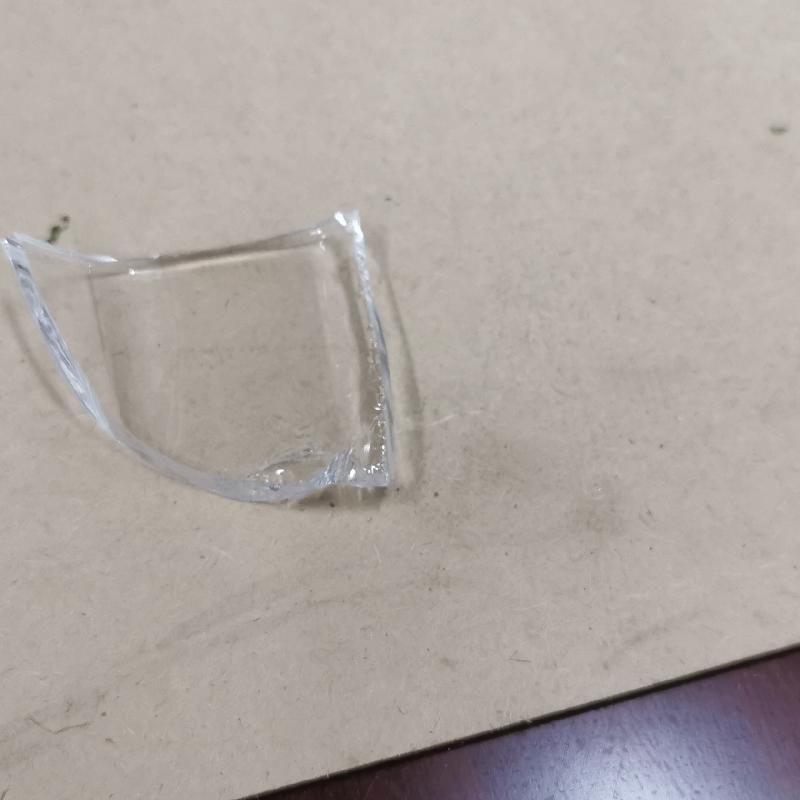glass: (0, 206, 402, 503)
